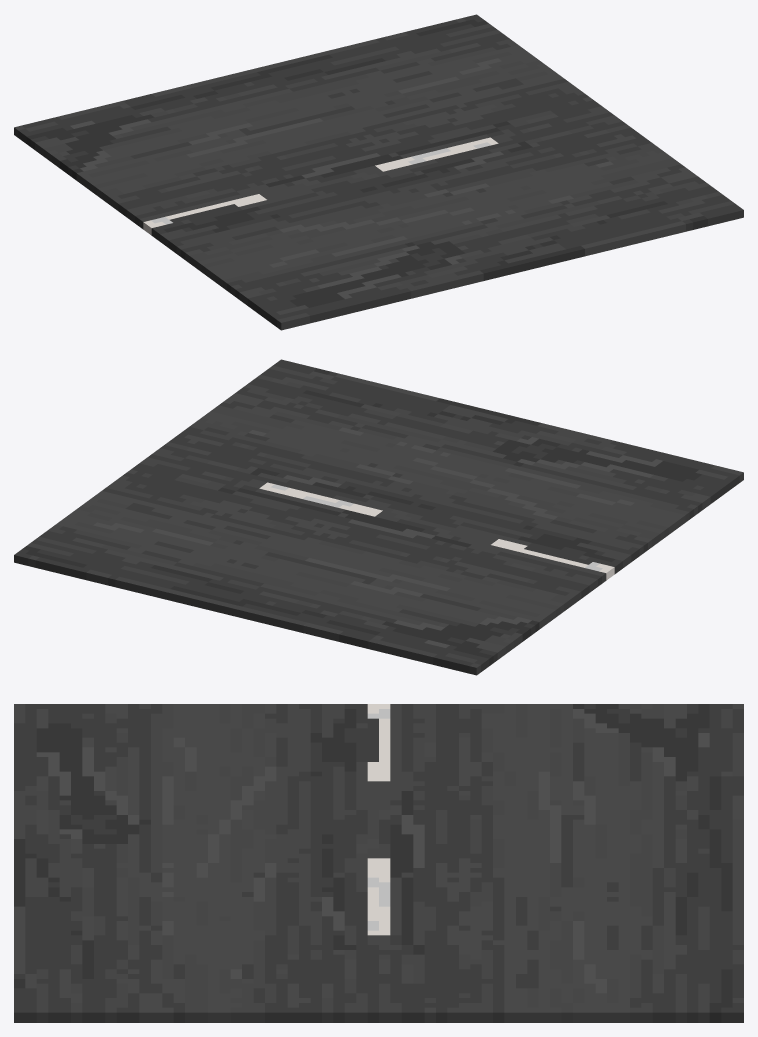
Rendered from MapFinalV1-9.obj.
The picture shows the model from 3 angles, top to bottom: view 1: azimuth 30°, elevation 25°; view 2: azimuth 150°, elevation 25°; view 3: azimuth 270°, elevation 25°; orthographic projection. The views are drawn at different scales.
Bounding box in the file's own units: 6.4 × 0.1 × 6.4.
1 material, 1 textured.
